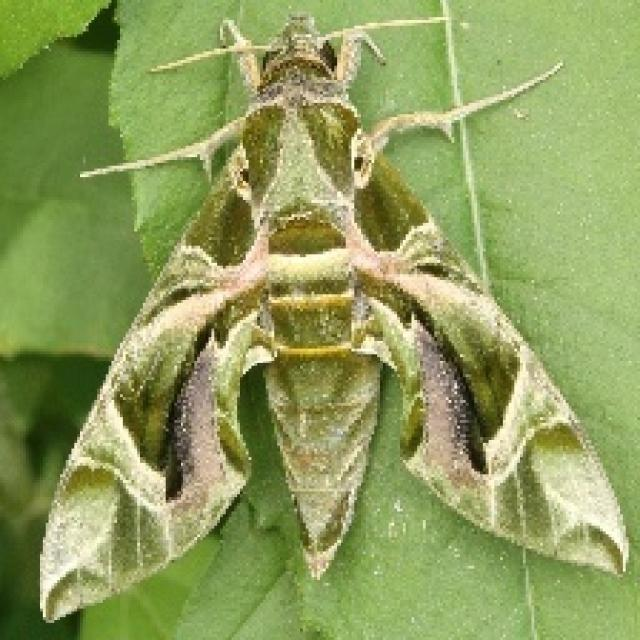butterfly: (34, 3, 632, 620)
